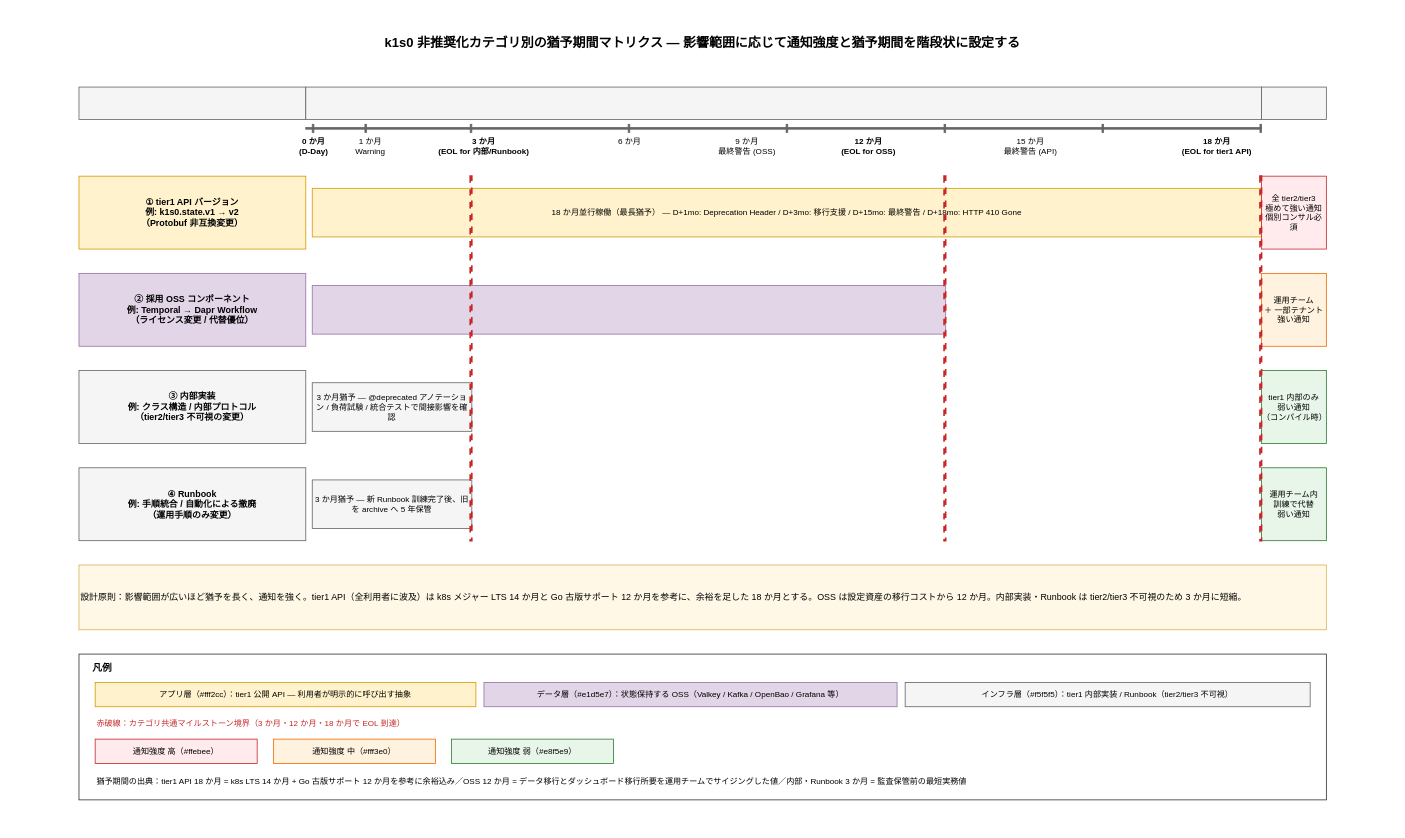
The diagram is 1405 pixels wide and 838 high, and some of its shapes have lost their labels. The shapes that lost their labels are listed below. From the top down, each one's box as (x1, y1, x2, y2) in pixels, then its label:
(78, 86, 306, 119): カテゴリ / 代表例
(305, 86, 1262, 119): タイムライン（月：D-Day = 0 から EOL まで）
(1261, 86, 1326, 119): 影響範囲 / 通知強度
(311, 285, 946, 334): 12 か月並行稼働 — データ移行 / ダッシュボード移行 / Runbook 更新を並走
